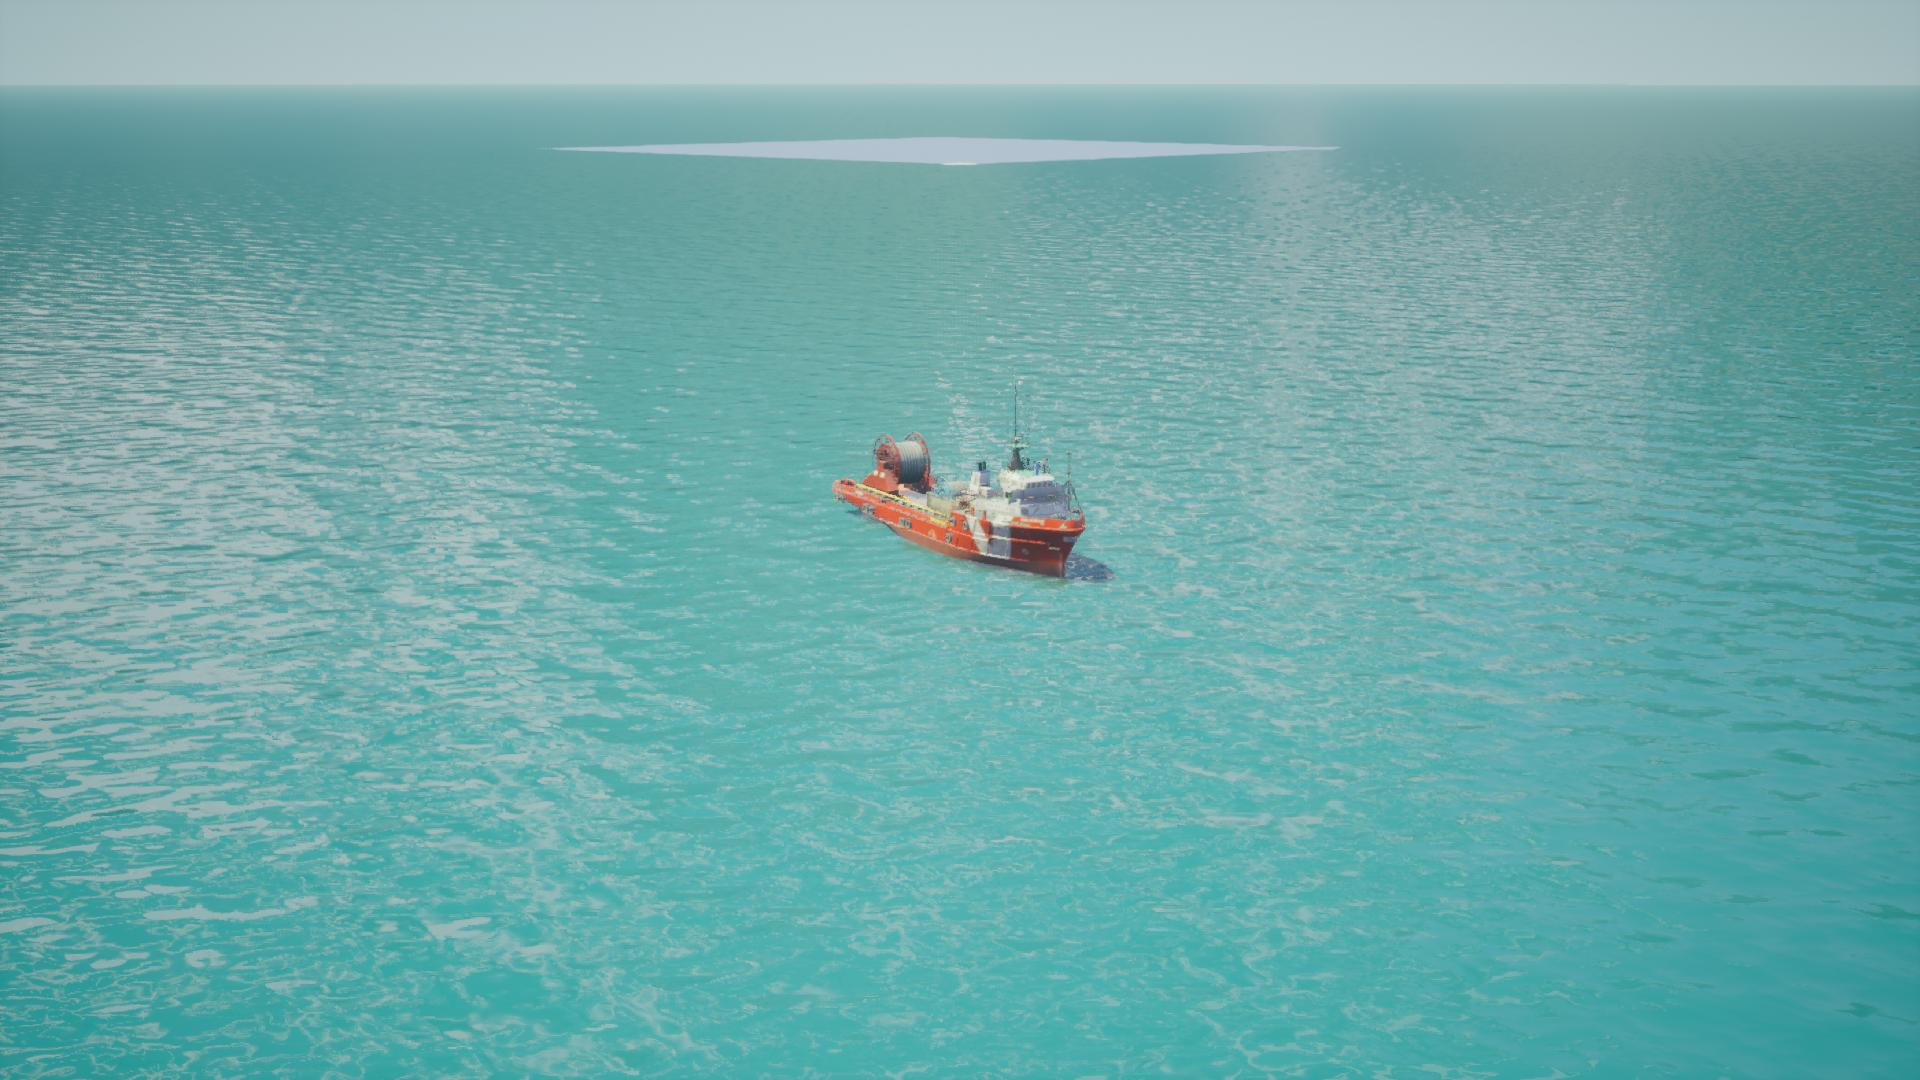Tug Boat: (834, 459, 1100, 581)
